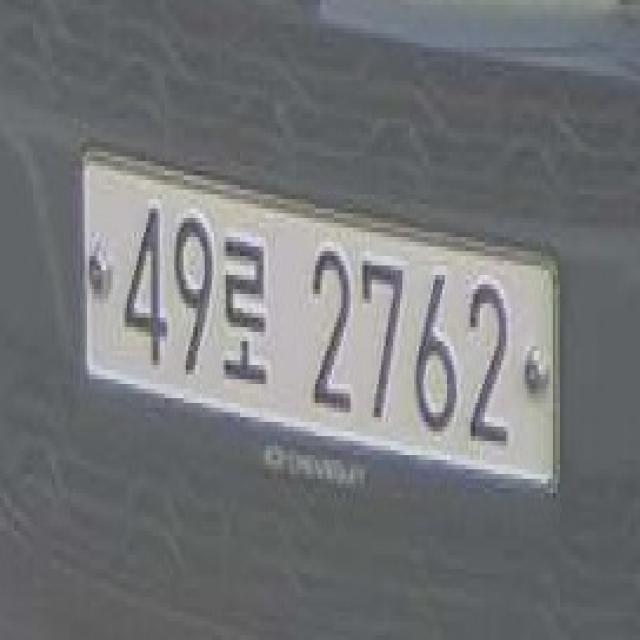2: (306, 228, 355, 436), (464, 274, 510, 454)
4: (128, 202, 168, 380)
6: (414, 255, 464, 450)
7: (360, 249, 410, 440)
9: (175, 208, 214, 386)
license_plate: (68, 130, 578, 518)
lo: (222, 223, 272, 410)
